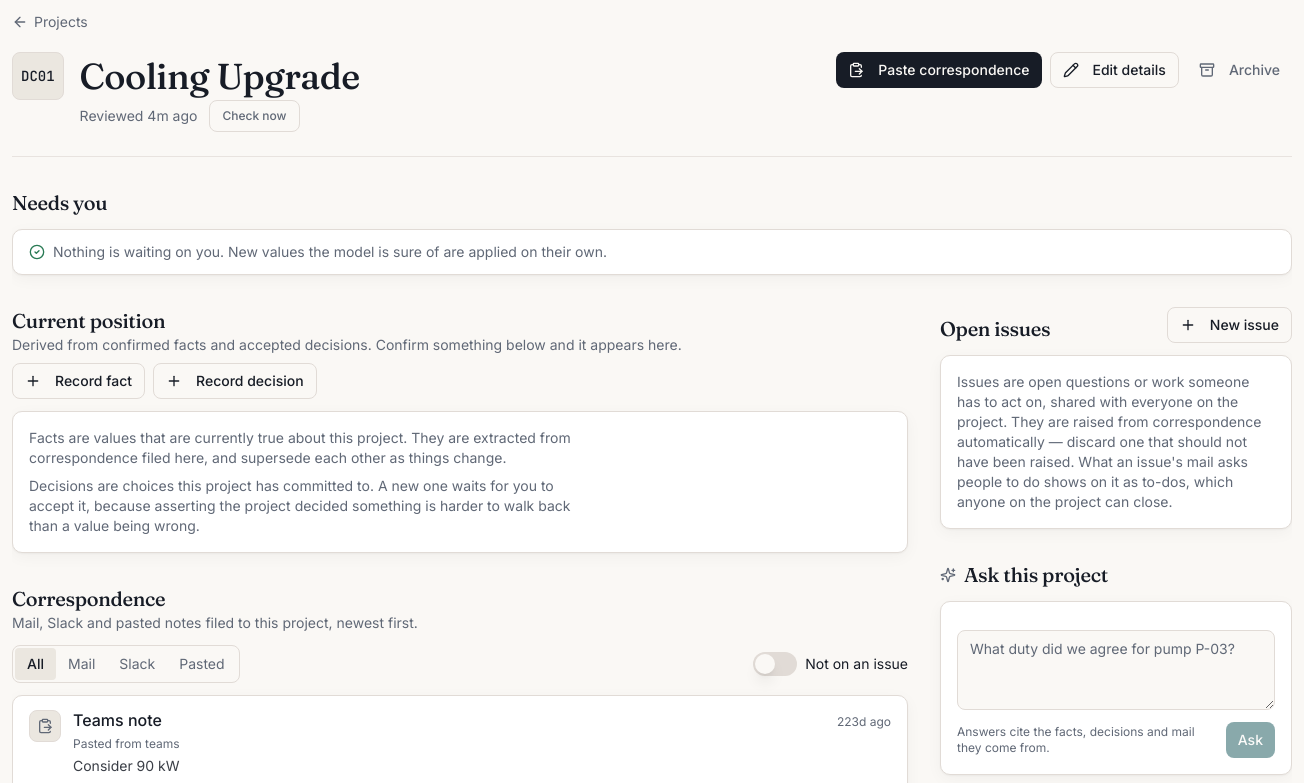
Test: Project workspace UI › reports a stalled run rather than reverting to the old watermark
Expected: the text "Reviewed 4m ago" is shown, [80, 106, 197, 126]
Step 1. Click the button "Check now" → (254, 116), box [209, 100, 300, 132]
Wait 125000 ms
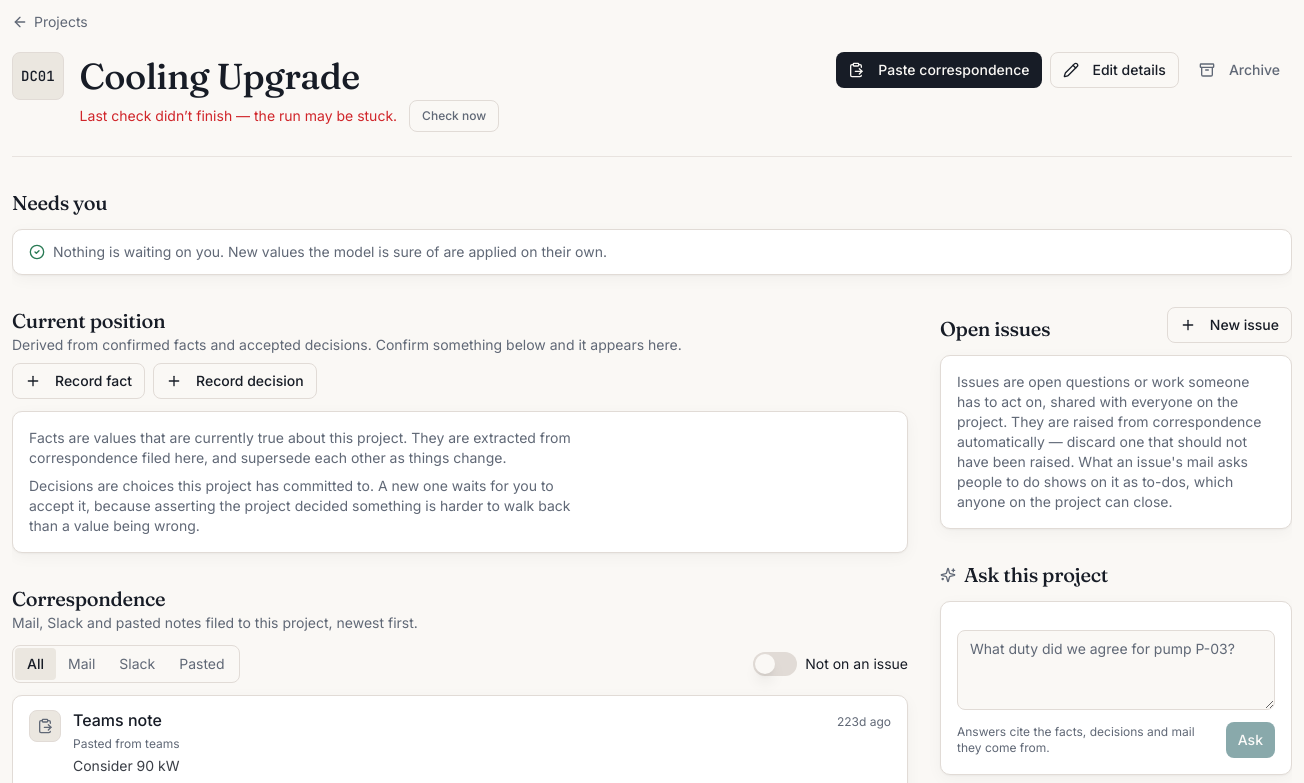
Expected: the button "Check now" is enabled, [409, 100, 499, 132]
Now the text "Last check didn’t finish — the run may be stuck." is shown, box [80, 106, 397, 126]
